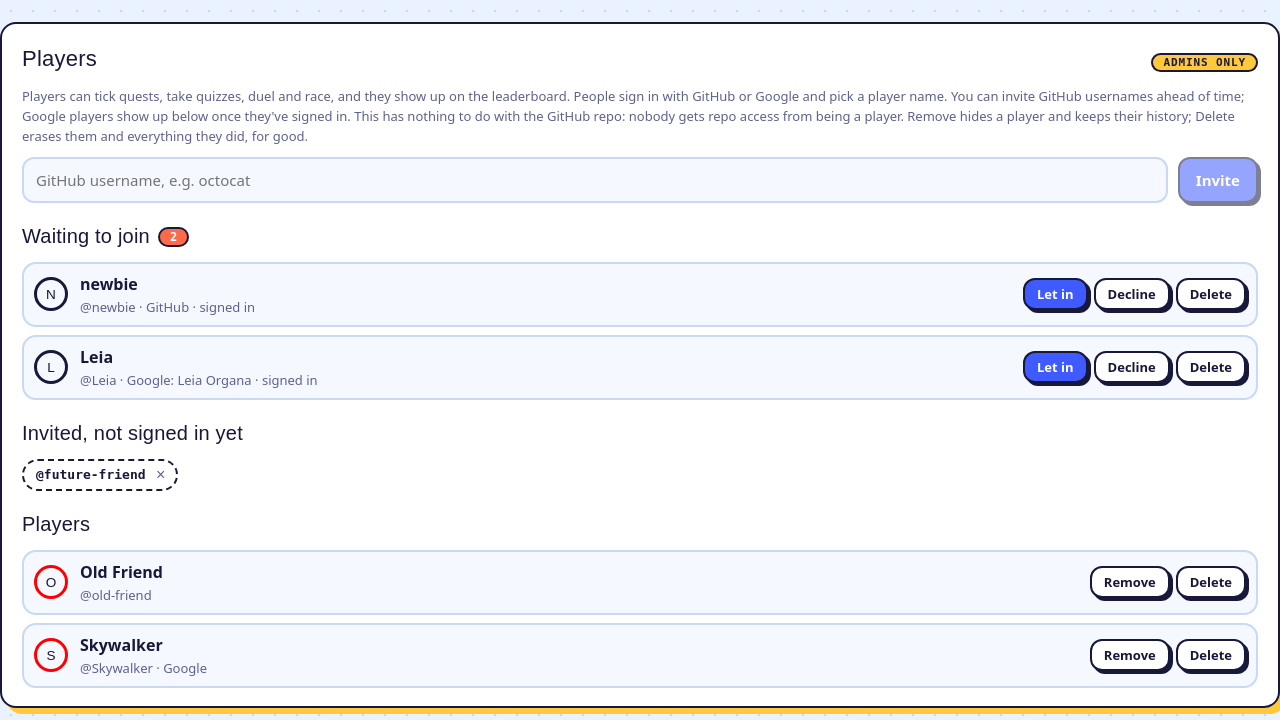
PlayersPanel names › shows which account a waiting player used, and acts on them by player name
This screenshot has width=1280, height=720.
Expected: the text "@Leia · Google: Leia Organa · signed in" is shown, [80, 371, 318, 389]
Expected: the text "@newbie · GitHub · signed in" is shown, [80, 298, 255, 316]
Click the button "Let in" in the row of "Google: Leia Organa".
click(1055, 367)  # box [1023, 351, 1088, 383]
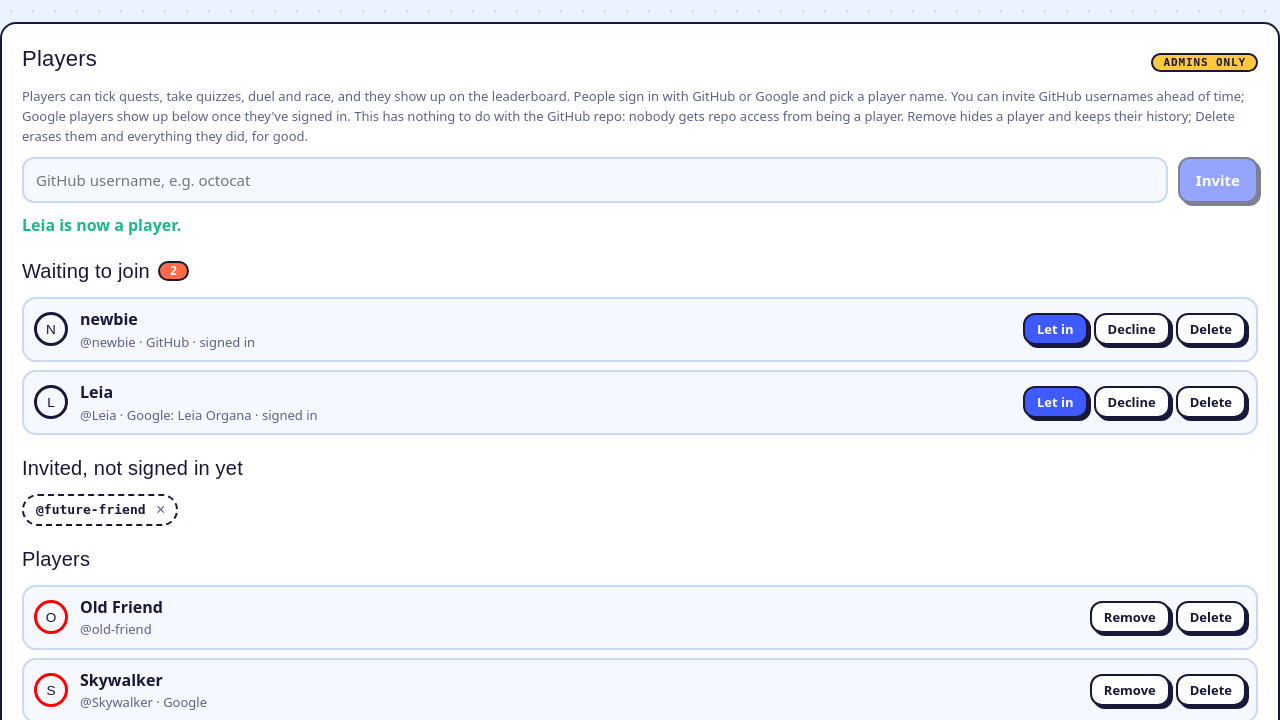
Now the message reads "Leia is now a player.", box [22, 214, 181, 236]
